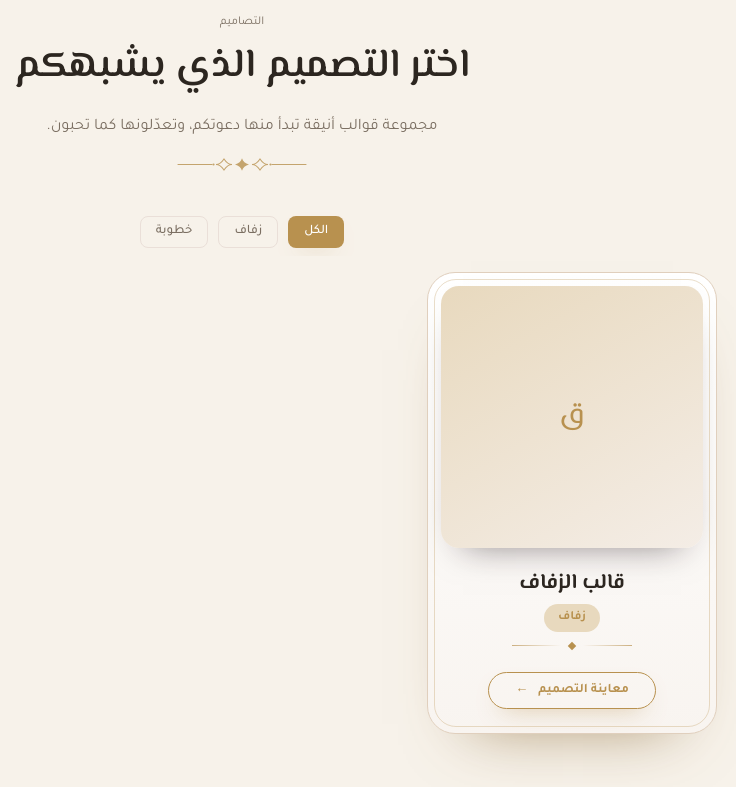
TemplatesSection categories › shows category chips and loads the chosen category from the gallery API
expect the button "الكل" is shown: met, box [288, 216, 344, 248]
expect the heading "قالب الزفاف" is shown: met, box [519, 570, 625, 597]
Click the button "خطوبة". click: x=174, y=232
box: [140, 216, 208, 248]
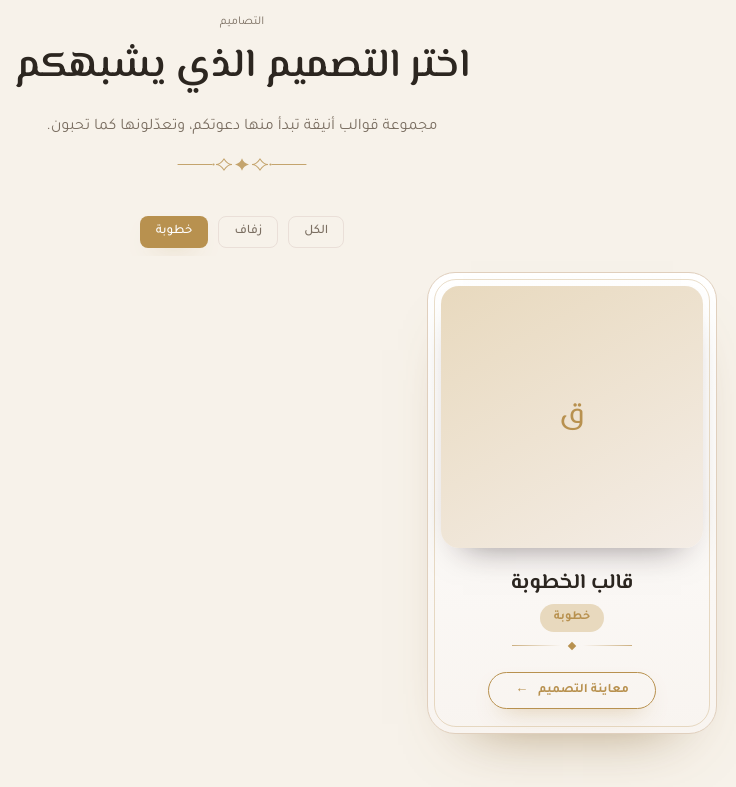
expect the heading "قالب الخطوبة" is shown: met, box [511, 570, 633, 597]
expect the heading "قالب الزفاف" is gone: met
Click the button "الكل". click: x=316, y=232
box: [288, 216, 344, 248]
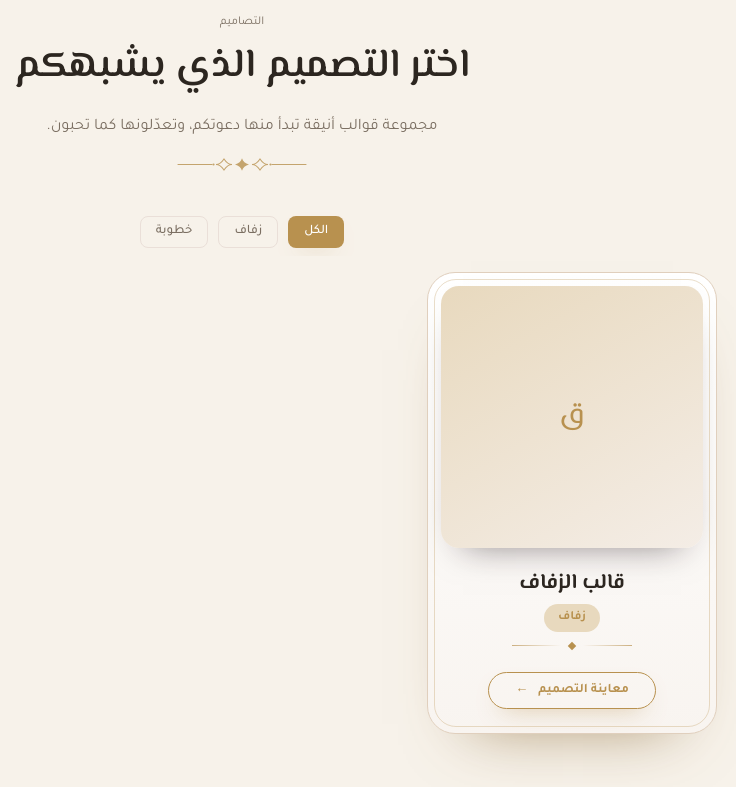
expect the heading "قالب الزفاف" is shown: met, box [519, 570, 625, 597]
